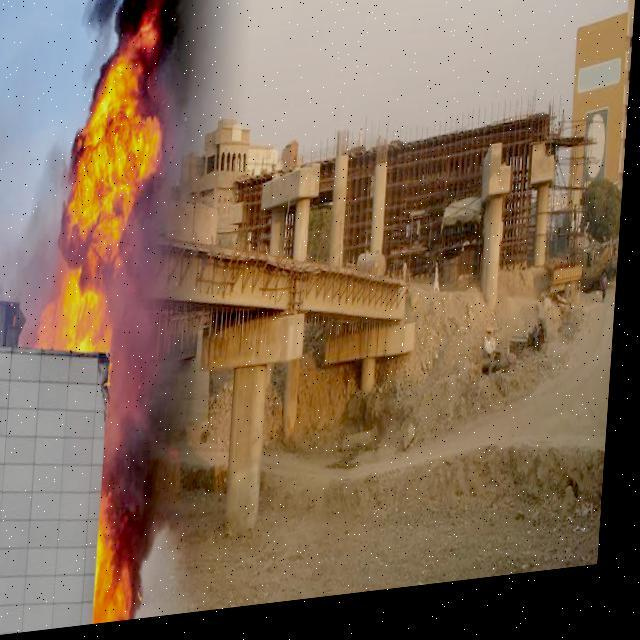Fire: (25, 0, 196, 633)
